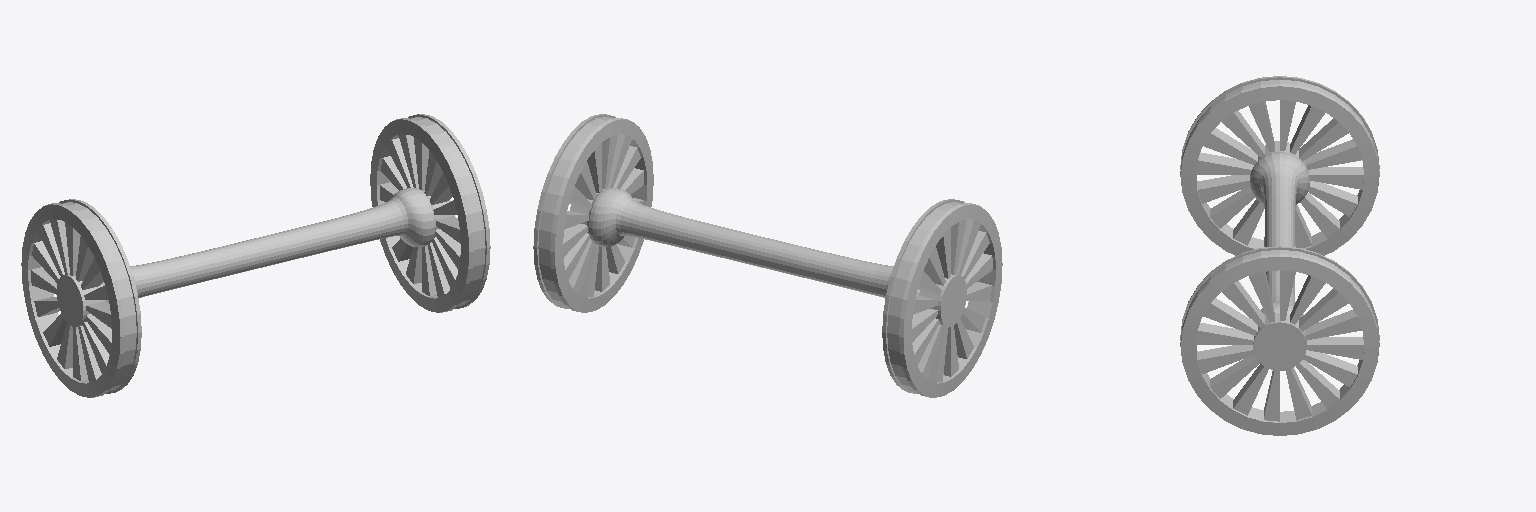
Rendered from roues_avant_train.obj.
3 views of the same model, side by side, from view 1: azimuth 30°, elevation 25°; view 2: azimuth 150°, elevation 25°; view 3: azimuth 270°, elevation 25° (orthographic).
Parts seen in each view (by area): view 1: pCylinder230_blinnBlack_0; view 2: pCylinder230_blinnBlack_0; view 3: pCylinder230_blinnBlack_0.
Part boxes in pixels (x1,y1,x2,y2): pCylinder230_blinnBlack_0: (21,114,490,397); pCylinder230_blinnBlack_0: (533,114,1002,397); pCylinder230_blinnBlack_0: (1180,76,1379,435).
Size of the model in its own units: 3.86 by 1.79 by 1.79.